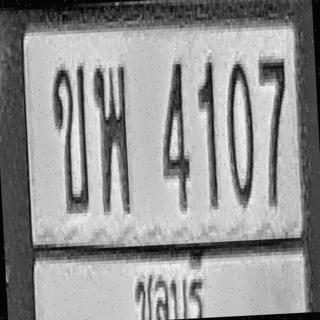A02: (50, 61, 91, 213)
A30: (92, 62, 132, 214)
N00: (224, 59, 257, 207)
N01: (196, 58, 220, 208)
N04: (158, 59, 192, 210)
N07: (257, 54, 292, 205)
P13: (129, 246, 208, 320)
